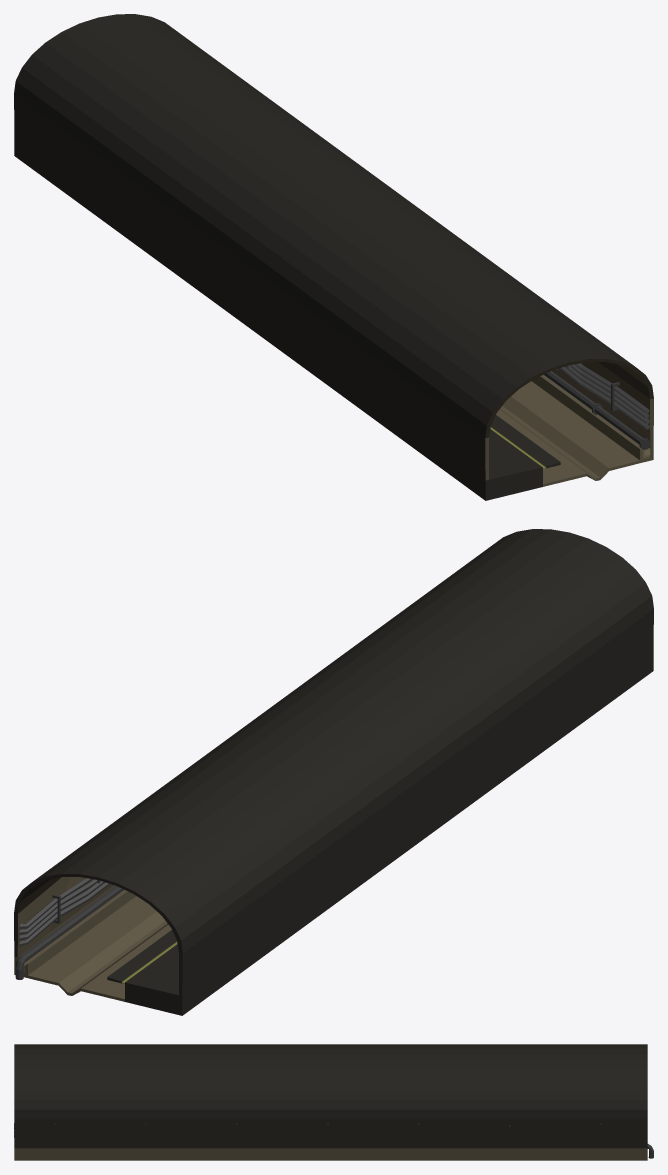
Rendered from Large_Tunnel.fbx.
The picture shows the model from 3 angles, top to bottom: view 1: azimuth 30°, elevation 25°; view 2: azimuth 150°, elevation 25°; view 3: azimuth 270°, elevation 25°; orthographic projection. The views are drawn at different scales.
Parts seen in each view (by area): view 1: Large_Tunnel; view 2: Large_Tunnel; view 3: Large_Tunnel.
Part boxes in pixels (box(x1,y1,x2,y2)): Large_Tunnel: box(14, 14, 653, 500); Large_Tunnel: box(14, 529, 653, 1015); Large_Tunnel: box(14, 1044, 653, 1160).
Size of the model in its own units: 12.48 by 8.84 by 60.9.
